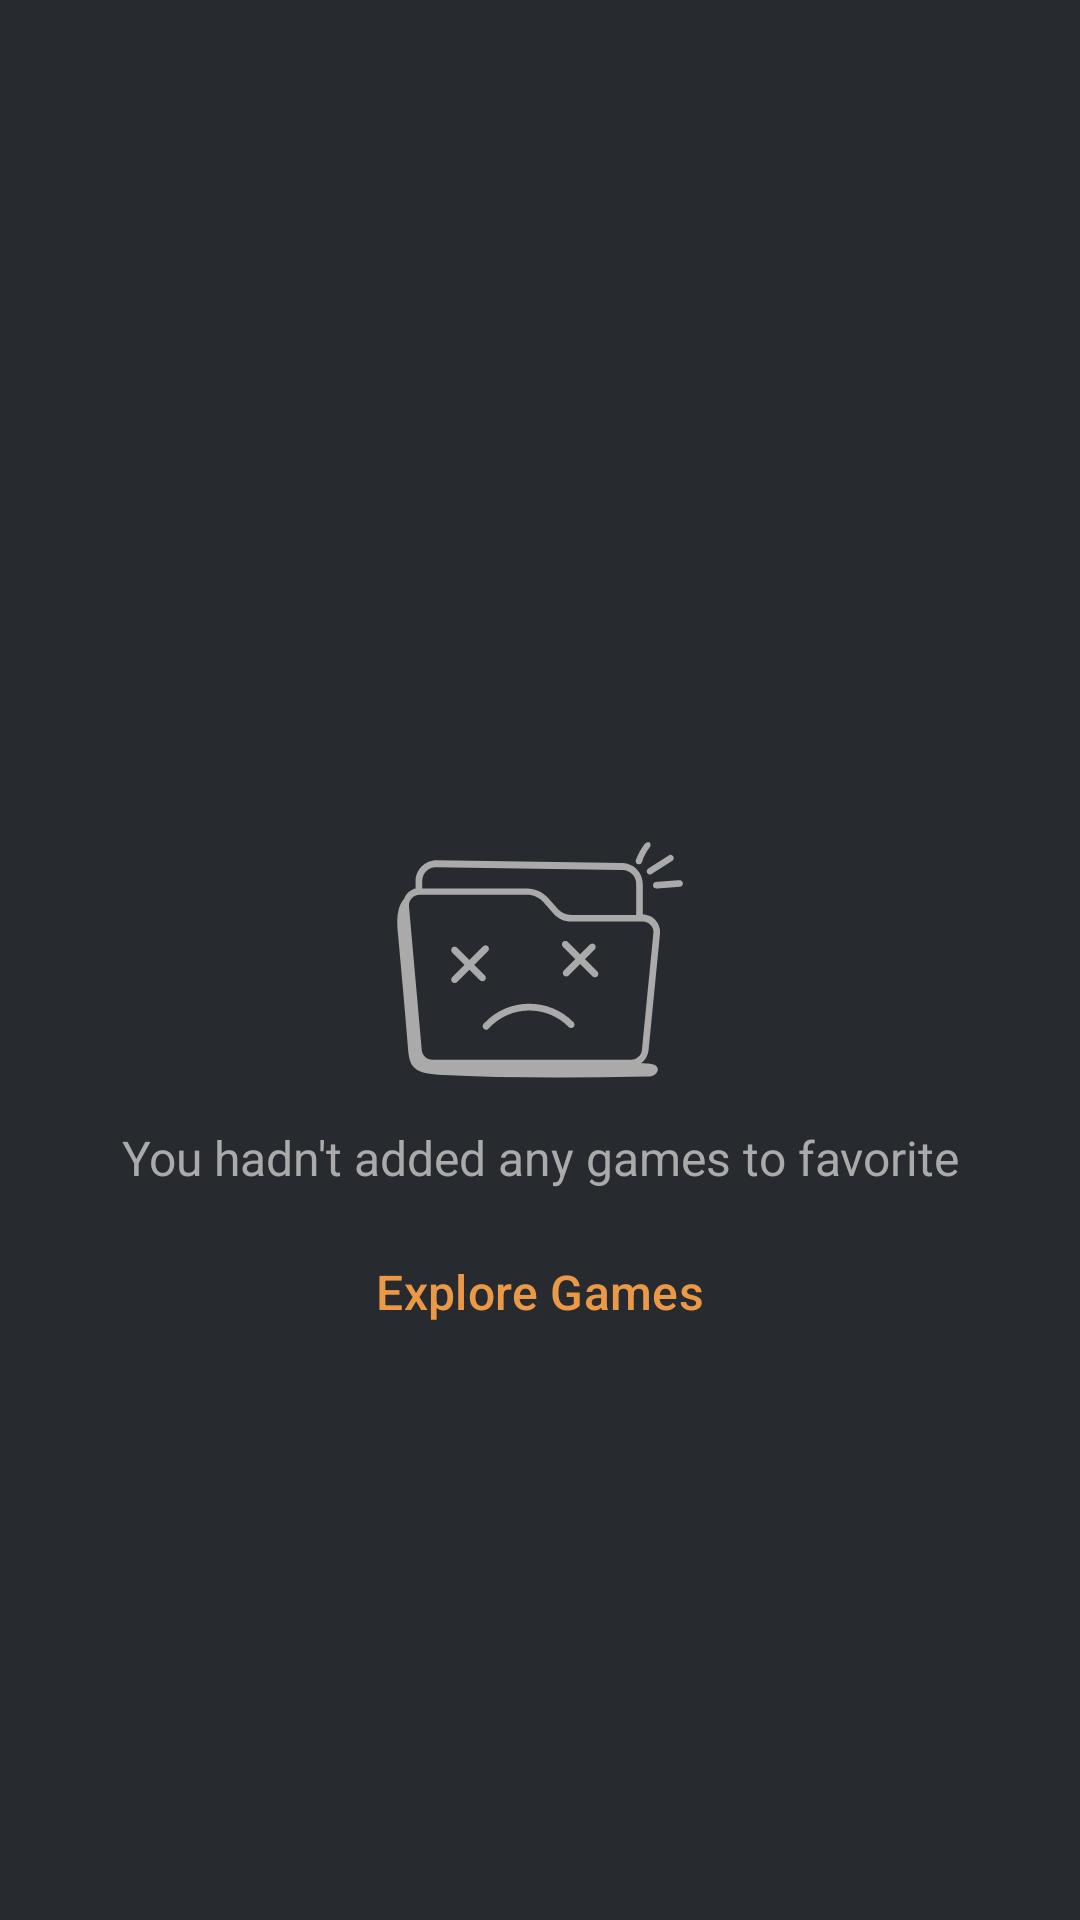

Icons on this 1080w x 1920h Android screen, each with the point to tap as (x,y):
empty: (540,960)
